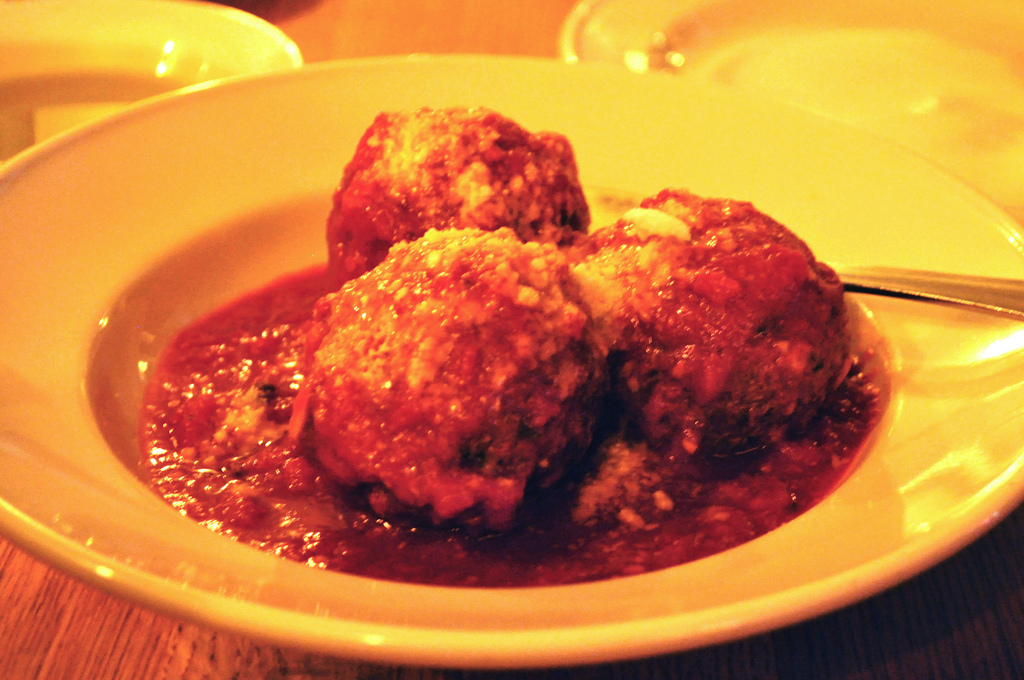meatballs: (330, 254, 590, 509), (580, 194, 839, 444), (343, 112, 579, 249)
